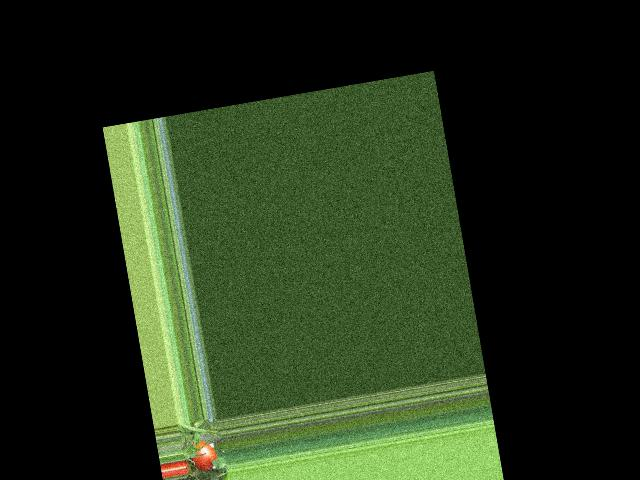tomato: (188, 439, 219, 473)
